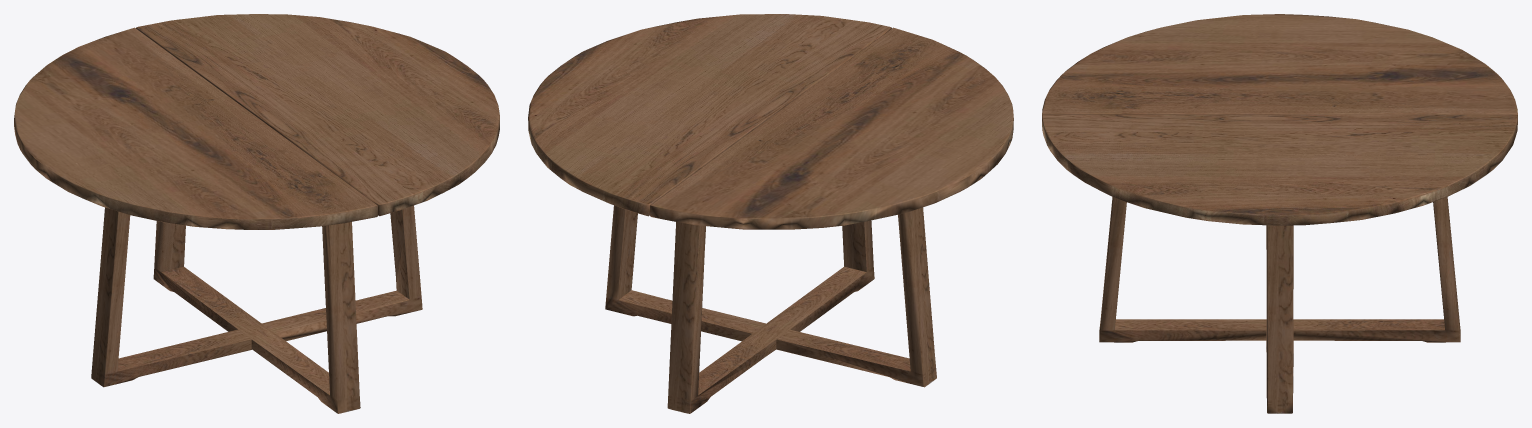
Rendered from M_RBYL_NGA_60412885.glb.
3 renders of one model, left to right at view 1: azimuth 30°, elevation 25°; view 2: azimuth 150°, elevation 25°; view 3: azimuth 270°, elevation 25°, orthographic. The views are drawn at different scales.
Parts seen in each view (by area): view 1: ProcessedMeshNode; view 2: ProcessedMeshNode; view 3: ProcessedMeshNode.
Part boxes in pixels (x1,y1,x2,y2): ProcessedMeshNode: [14, 14, 499, 413]; ProcessedMeshNode: [528, 14, 1013, 413]; ProcessedMeshNode: [1042, 14, 1517, 413].
Bounding box in the file's own units: 1.45 × 0.7536 × 1.45.
1 material, 1 textured.
